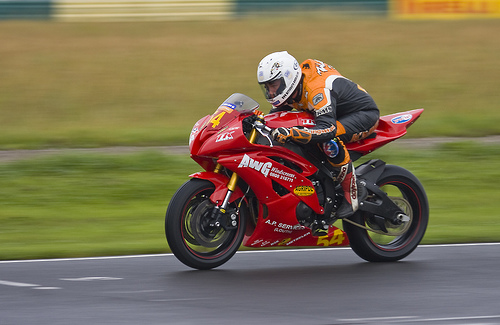helmet: (250, 48, 298, 100)
